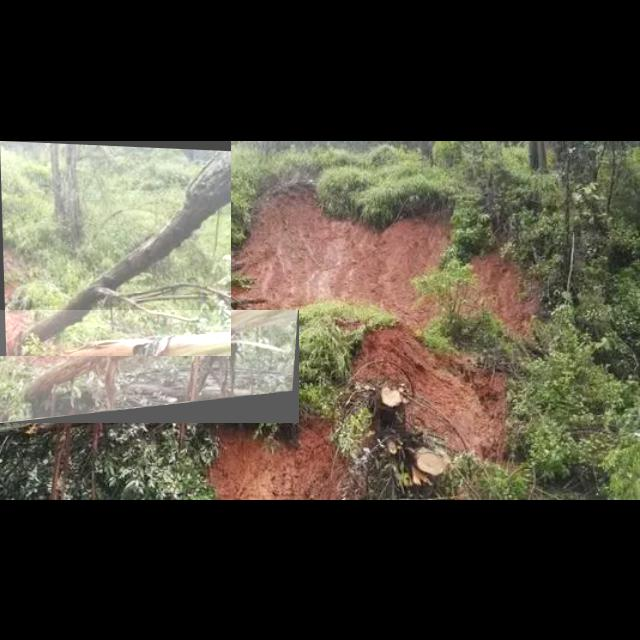Fallen Tree: (0, 141, 232, 357), (0, 310, 300, 424)
